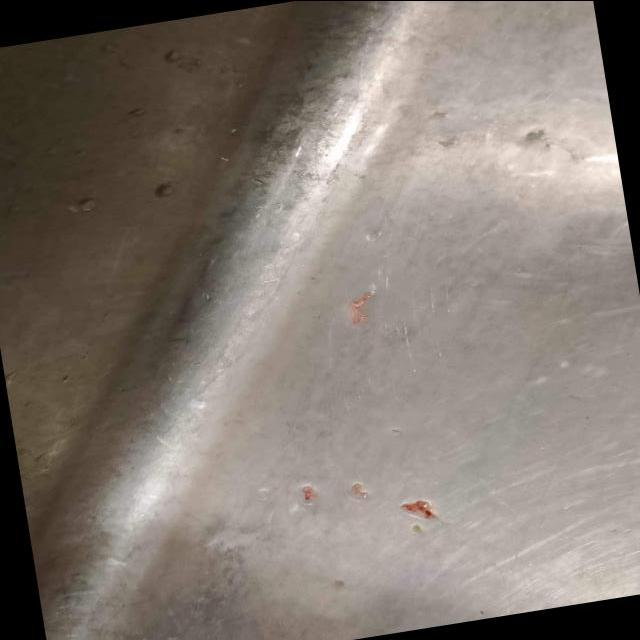General: (0, 1, 639, 639)
Sharps: (347, 290, 373, 325), (399, 497, 437, 519)
